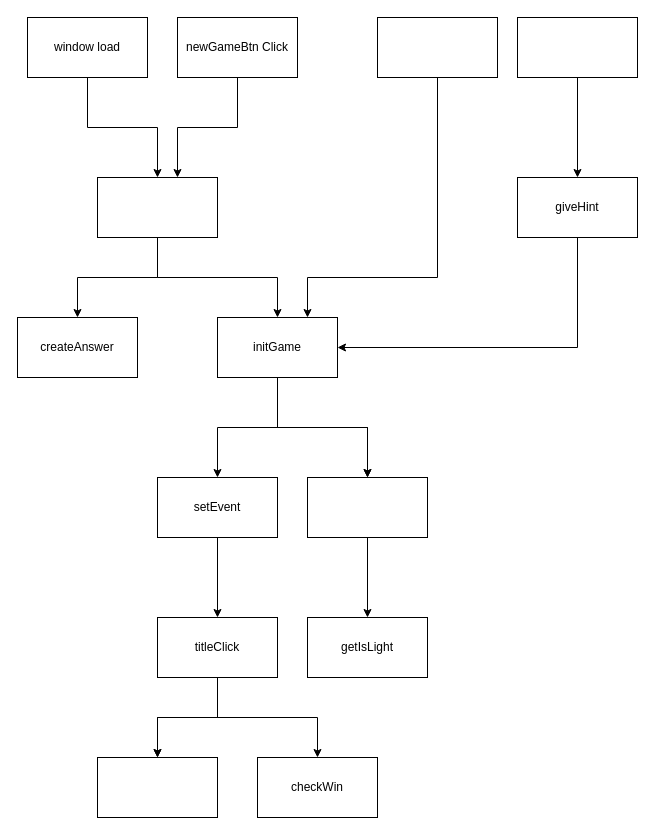
Image size: 655x835. Some labels were removed from this diagram. Each missing label, with the box of its shape:
createTile: (306, 476, 428, 538)
hintBtn Click: (516, 16, 638, 78)
newGame: (96, 176, 218, 238)
push: (96, 756, 218, 818)
restartBtn Click: (376, 16, 498, 78)
